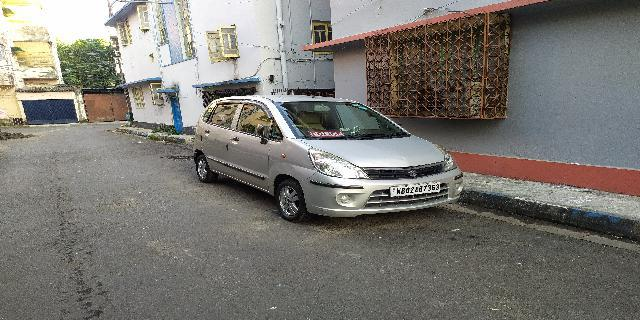Car: (188, 90, 467, 229)
